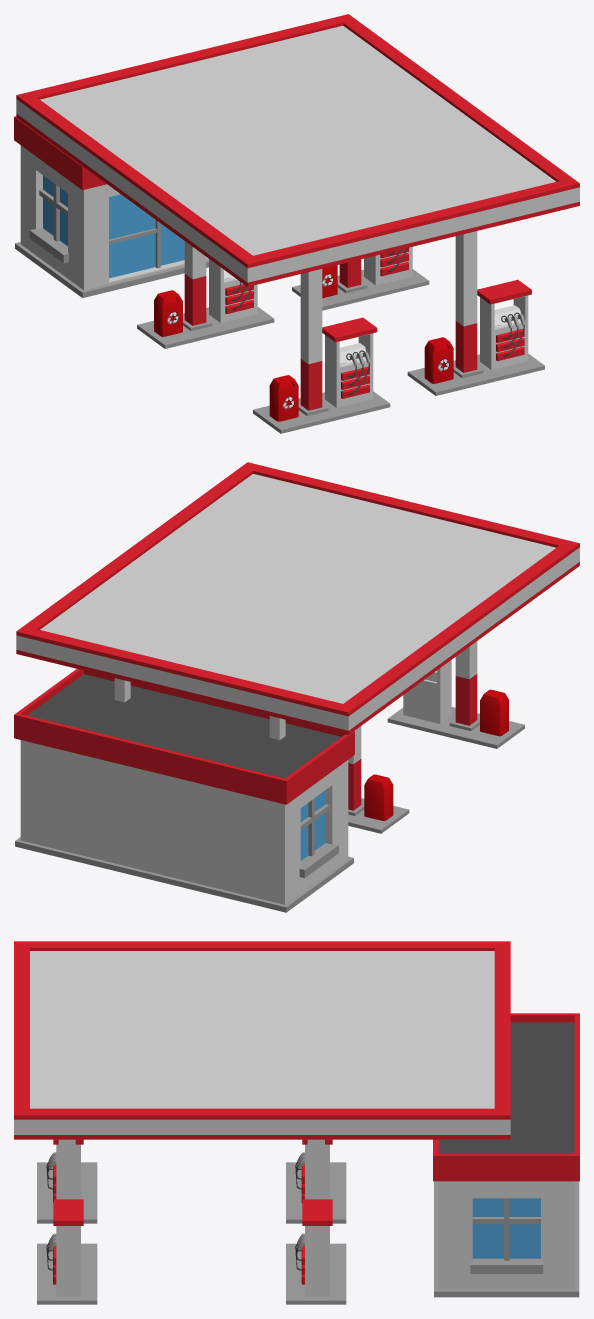
Rendered from Posto-De-Gasolina.fbx.
3 views of the same model, one above another, from view 1: azimuth 30°, elevation 25°; view 2: azimuth 150°, elevation 25°; view 3: azimuth 270°, elevation 25° (orthographic). The views are drawn at different scales.
Parts seen in each view (by area): view 1: Cube.002, Cube, Cube.001, Cube.031, Cube.015, Cube.016, Cube.032, Cube.008, Cube.024, Cube.007, Cube.017, Cube.033 (+9 smaller); view 2: Cube.002, Cube, Cube.001, Cube.015, Cube.016, Cube.009, Cube.017, Cube.008, Cube.003, Cube.004; view 3: Cube.002, Cube, Cube.023, Cube.031, Cube.032, Cube.024, Cube.001, Cube.016, Cube.008, Cube.003, Cube.004, Cube.015 (+1 smaller).
Part boxes in pixels (x1,y1,x2,y2): Cube.002: [16, 14, 579, 286]; Cube: [14, 116, 208, 298]; Cube.001: [183, 231, 483, 415]; Cube.031: [477, 279, 531, 369]; Cube.015: [322, 317, 377, 407]; Cube.016: [253, 391, 390, 433]; Cube.032: [407, 354, 544, 395]; Cube.008: [137, 307, 274, 348]; Cube.024: [292, 269, 429, 310]; Cube.007: [209, 259, 257, 322]; Cube.017: [269, 375, 298, 421]; Cube.033: [424, 337, 453, 383]; Cube.002: [16, 462, 579, 734]; Cube: [14, 669, 354, 912]; Cube.001: [114, 641, 479, 815]; Cube.015: [403, 660, 451, 723]; Cube.016: [387, 707, 524, 748]; Cube.009: [364, 774, 393, 820]; Cube.017: [480, 689, 508, 736]; Cube.008: [348, 798, 409, 833]; Cube.003: [299, 843, 338, 878]; Cube.004: [300, 798, 329, 856]; Cube.002: [14, 941, 510, 1139]; Cube: [433, 1013, 579, 1297]; Cube.023: [302, 1199, 332, 1296]; Cube.031: [53, 1199, 83, 1296]; Cube.032: [37, 1243, 97, 1304]; Cube.024: [286, 1243, 346, 1304]; Cube.001: [58, 1139, 324, 1199]; Cube.016: [37, 1162, 97, 1223]; Cube.008: [286, 1162, 346, 1223]; Cube.003: [470, 1258, 543, 1273]; Cube.004: [472, 1198, 540, 1260]; Cube.015: [53, 1139, 83, 1199].
Size of the model in its own units: 2169 by 1173 by 2979.
